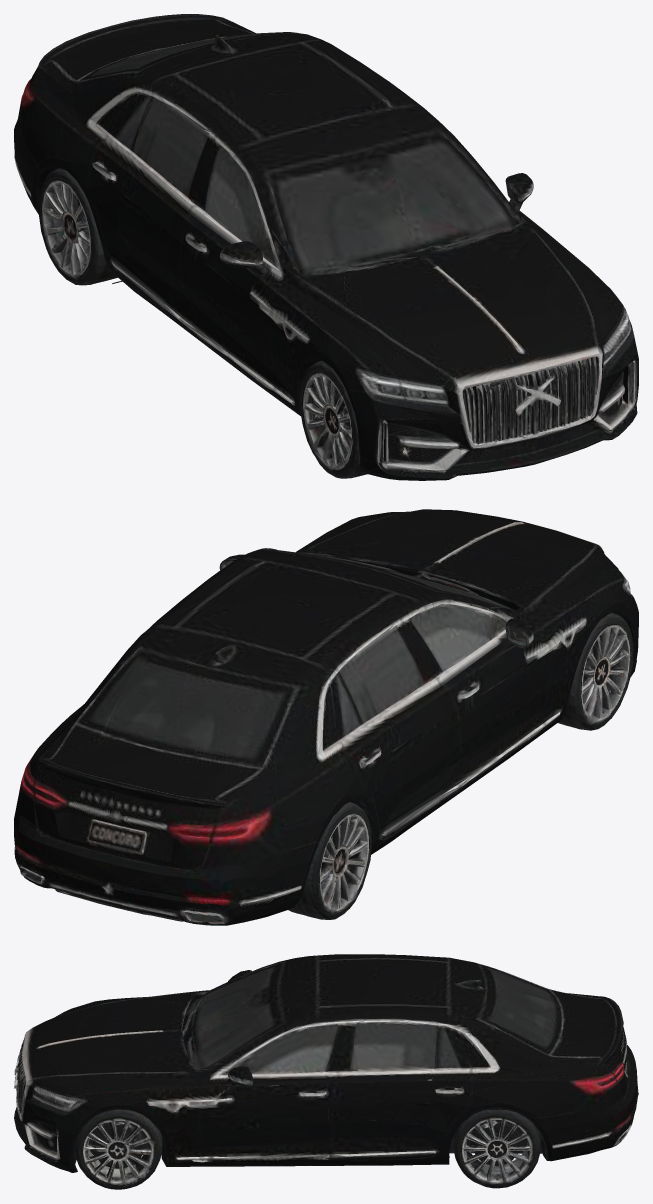
File: concordance.v2.glb
3 renders of one model, top to bottom at view 1: azimuth 30°, elevation 25°; view 2: azimuth 150°, elevation 25°; view 3: azimuth 270°, elevation 25°, orthographic. The views are drawn at different scales.
Visible parts, largest first — view 1: body, wheel_RR_mesh, wheel_FR_mesh; view 2: body, wheel_RR_mesh, wheel_FR_mesh; view 3: body, wheel_FL_mesh, wheel_RL_mesh.
Boxes of the visible parts, left/top/right/bottom form: body: left=14, top=14, right=638, bottom=480; wheel_RR_mesh: left=38, top=168, right=117, bottom=285; wheel_FR_mesh: left=298, top=360, right=367, bottom=478; body: left=14, top=509, right=638, bottom=925; wheel_RR_mesh: left=288, top=799, right=374, bottom=919; wheel_FR_mesh: left=558, top=610, right=635, bottom=730; body: left=14, top=954, right=638, bottom=1172; wheel_FL_mesh: left=70, top=1109, right=162, bottom=1189; wheel_RL_mesh: left=448, top=1109, right=542, bottom=1188.
Bounding box in the file's own units: 2.1 × 1.46 × 5.07.
8 materials, 8 textured.
